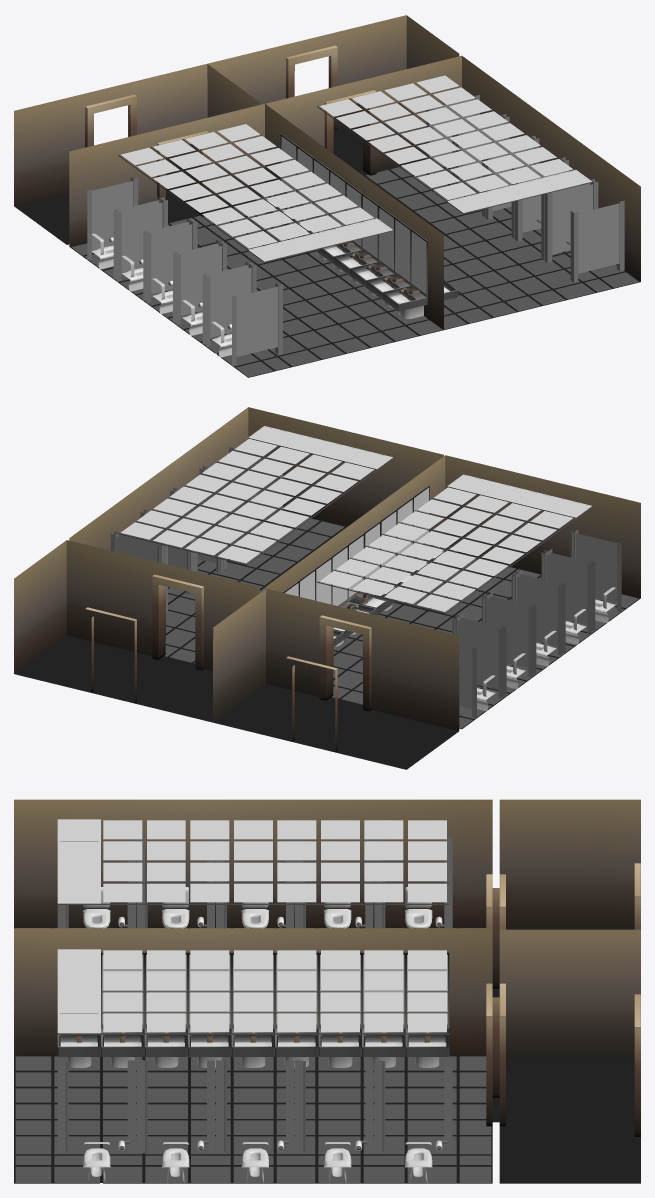
Rendered from toiledLevel.glb.
3 renders of one model, top to bottom at view 1: azimuth 30°, elevation 25°; view 2: azimuth 150°, elevation 25°; view 3: azimuth 270°, elevation 25°, orthographic. The views are drawn at different scales.
Visible parts, largest first — view 1: active_level.001, active_floor, active_floor.001, cabine, mirror, toiled.003; view 2: active_level.001, active_floor, active_floor.001, cabine, mirror, toiled.003, cabine.001; view 3: active_level.001, active_floor.001, active_floor, mirror, cabine, toiled.003, cabine.001.
Boxes of the visible parts, x1=… form: active_level.001: x1=14, y1=15, x2=640, y2=329; active_floor: x1=118, y1=75, x2=592, y2=262; active_floor.001: x1=14, y1=125, x2=640, y2=377; cabine: x1=87, y1=94, x2=624, y2=365; mirror: x1=252, y1=133, x2=457, y2=319; toiled.003: x1=91, y1=176, x2=570, y2=357; active_level.001: x1=14, y1=407, x2=640, y2=752; active_floor: x1=118, y1=426, x2=592, y2=613; active_floor.001: x1=14, y1=517, x2=640, y2=769; cabine: x1=110, y1=446, x2=621, y2=718; mirror: x1=283, y1=485, x2=457, y2=646; toiled.003: x1=477, y1=587, x2=615, y2=711; cabine.001: x1=158, y1=475, x2=573, y2=634; active_level.001: x1=14, y1=799, x2=640, y2=1136; active_floor.001: x1=14, y1=927, x2=640, y2=1183; active_floor: x1=57, y1=819, x2=449, y2=1034; mirror: x1=57, y1=952, x2=449, y2=1067; cabine: x1=57, y1=837, x2=452, y2=1153; toiled.003: x1=83, y1=887, x2=447, y2=1183; cabine.001: x1=65, y1=869, x2=385, y2=1152.
Size of what is drawn, in the model's own units: 22.57 by 5.32 by 23.15.
Materials: 3 (1 with a texture image).
